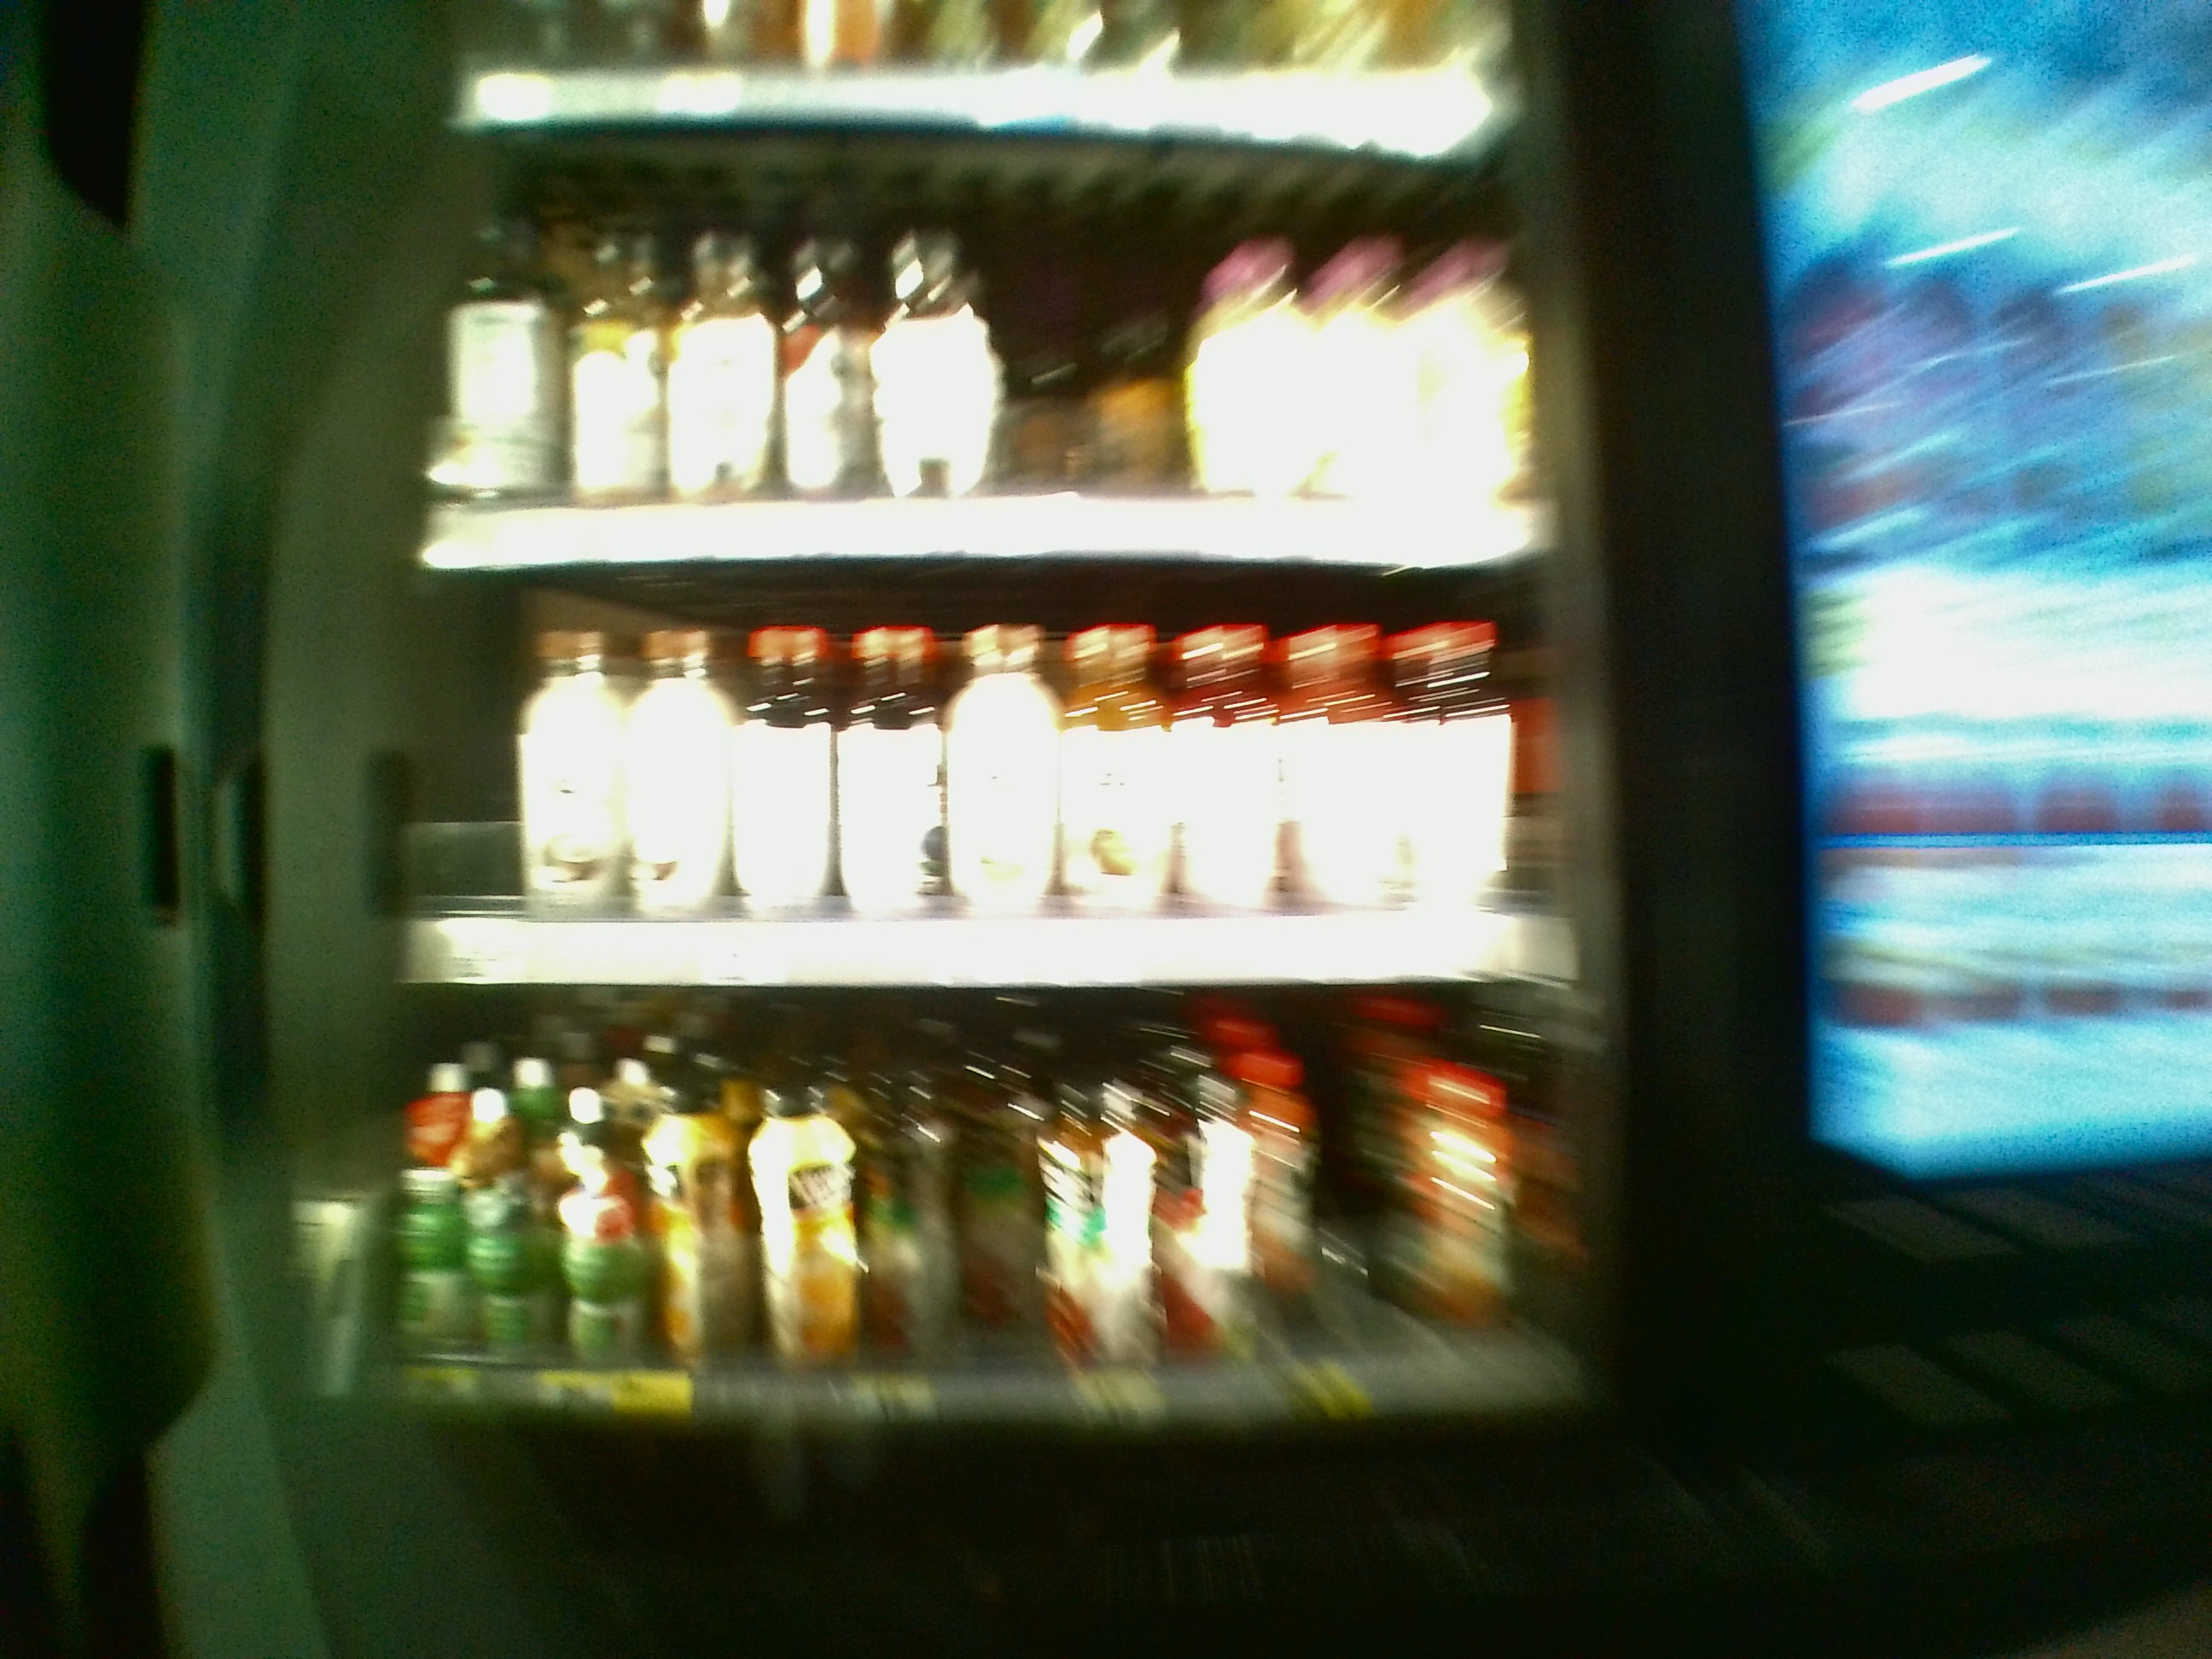shelf: (387, 995, 1583, 1429), (409, 112, 1545, 568), (394, 580, 1569, 978)
